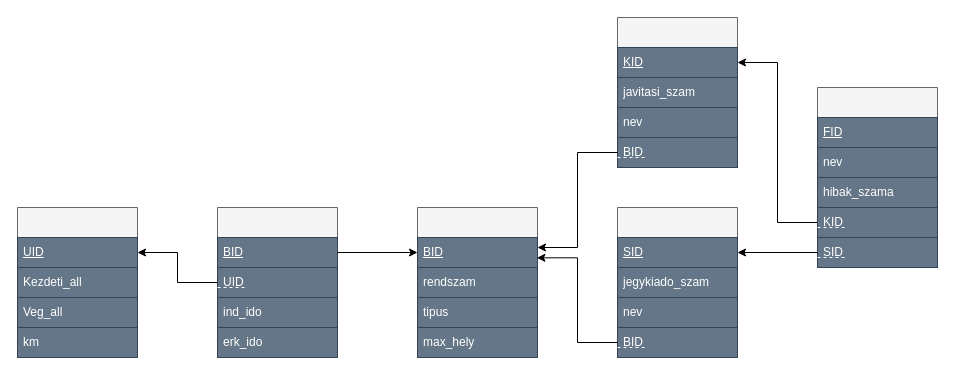
The diagram is 955 pixels wide and 375 high, and some of its shapes have lost their labels. The box of each missing label's shape, as (x1, y1, x2, y2) in pixels:
autobusz: (416, 206, 538, 358)
felugyelo: (816, 86, 938, 268)
halad: (216, 206, 338, 358)
karbantarto: (616, 16, 738, 168)
sofor: (616, 206, 738, 358)
utvonal: (16, 206, 138, 358)
